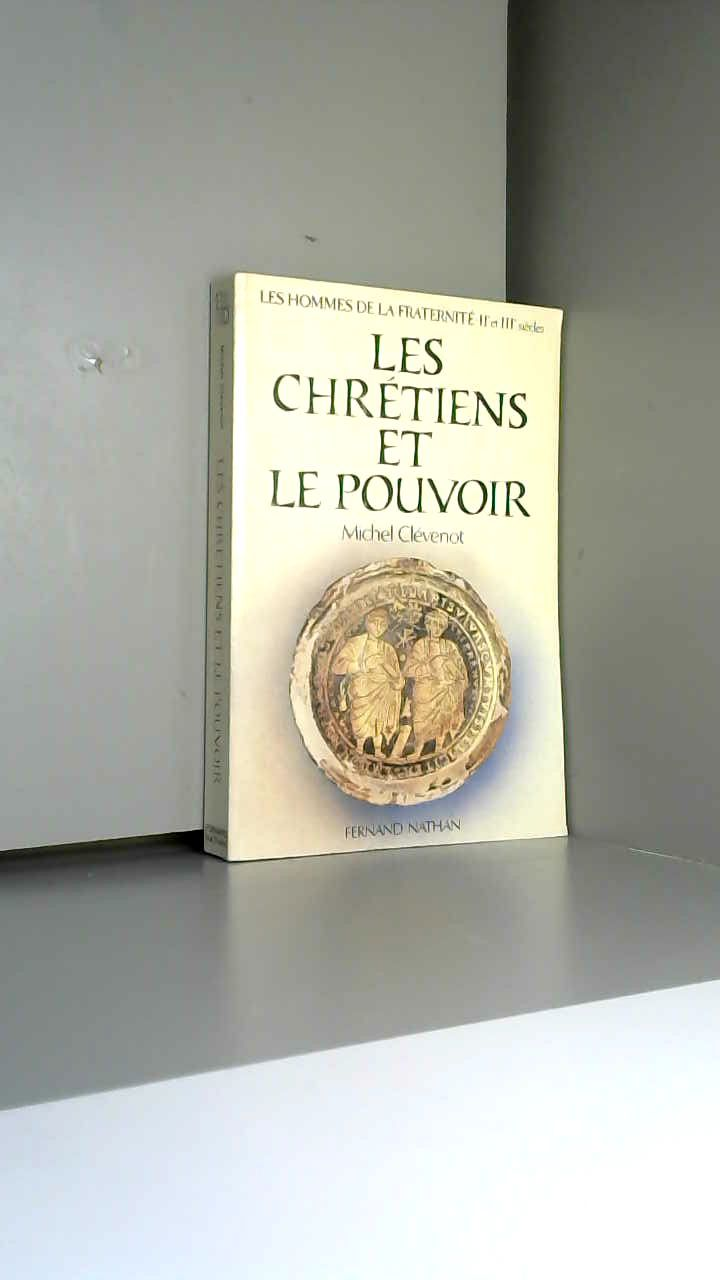book: (174, 249, 604, 901)
